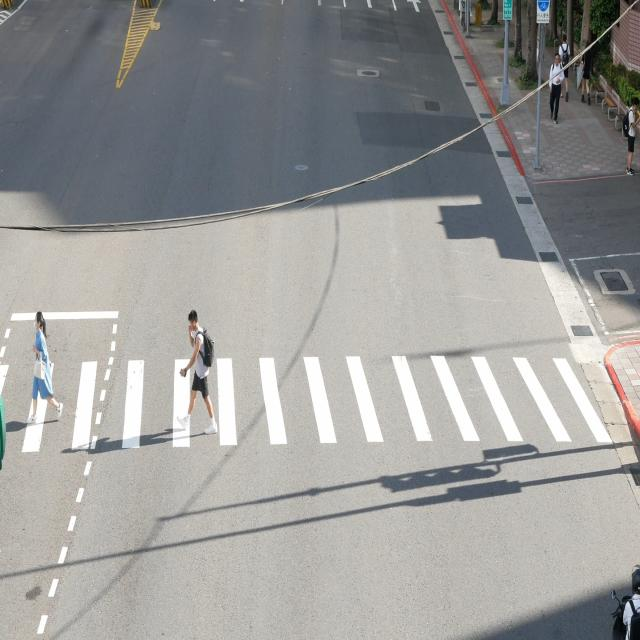pedestrian: (179, 310, 217, 433), (32, 312, 62, 415)
